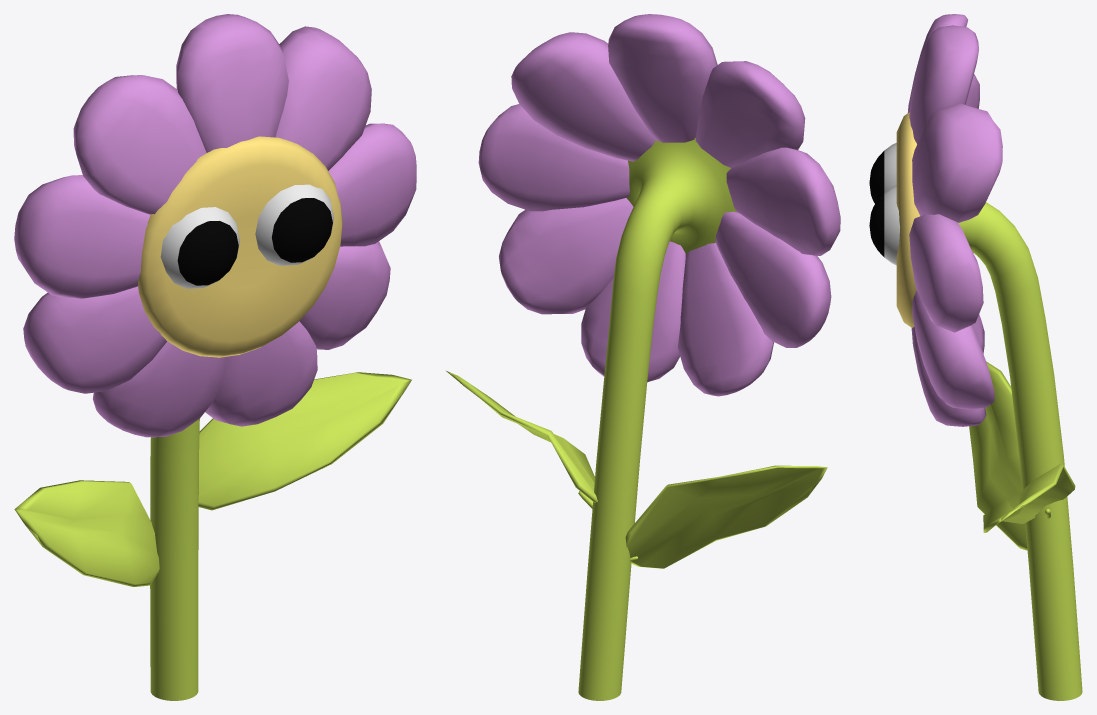
File: sebze1.fbx
3 views of the same model, side by side, from view 1: azimuth 30°, elevation 25°; view 2: azimuth 150°, elevation 25°; view 3: azimuth 270°, elevation 25° (orthographic). The views are drawn at different scales.
Visible parts, largest first — view 1: Sphere.018; view 2: Sphere.018; view 3: Sphere.018.
Part boxes in pixels (x1,y1,x2,y2): Sphere.018: (14, 14, 416, 700); Sphere.018: (446, 14, 840, 700); Sphere.018: (869, 14, 1082, 700).
Size of the model in its own units: 1126 by 1855 by 547.
